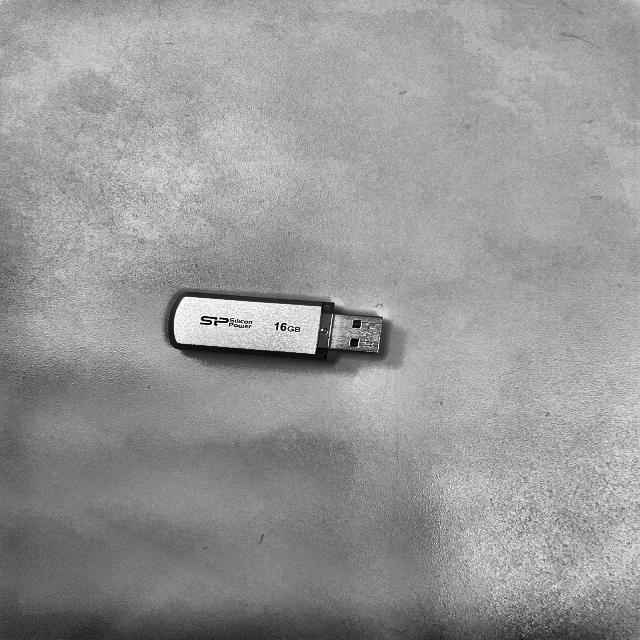Mug: (165, 292, 389, 364)
